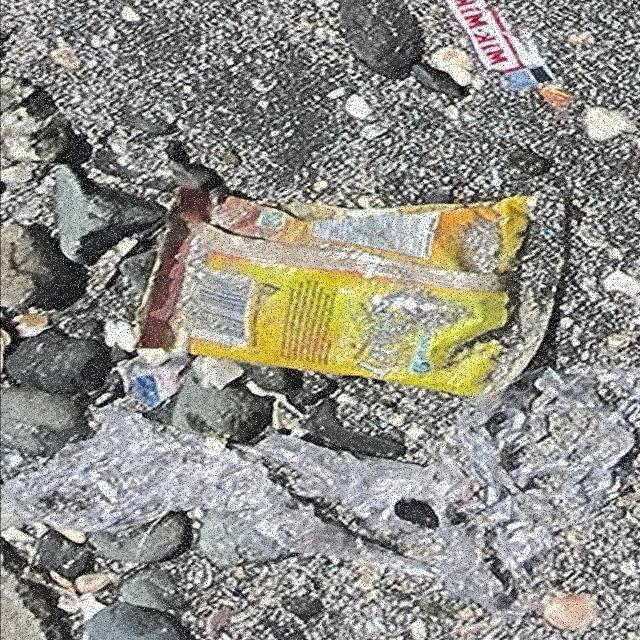plastic_waste: (133, 187, 572, 406)
